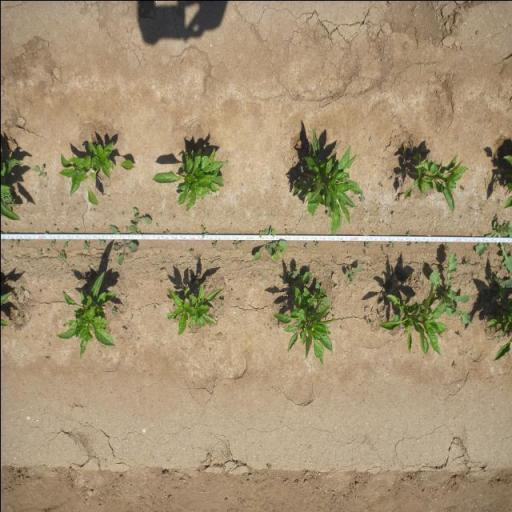plant: (289, 124, 363, 235), (55, 268, 116, 360), (57, 137, 134, 206), (381, 279, 449, 356), (268, 289, 336, 366), (152, 144, 224, 212), (398, 145, 467, 213), (165, 280, 223, 335), (486, 301, 512, 365)
weed: (426, 248, 473, 325), (473, 217, 512, 276), (106, 222, 139, 269), (252, 228, 288, 264), (485, 274, 512, 300), (128, 204, 154, 230), (286, 267, 312, 288), (344, 264, 361, 283), (33, 163, 46, 177), (4, 195, 16, 209), (58, 248, 66, 262), (9, 238, 25, 245), (232, 240, 242, 250), (364, 316, 373, 326), (200, 223, 208, 234), (96, 237, 106, 245), (359, 193, 365, 204), (463, 259, 471, 267), (387, 241, 395, 249), (210, 240, 218, 248), (444, 242, 450, 252), (17, 287, 25, 294), (83, 241, 89, 250), (219, 298, 225, 307), (456, 332, 463, 339), (313, 240, 319, 248), (162, 228, 170, 234), (112, 306, 116, 316), (452, 363, 458, 369), (406, 230, 412, 236), (406, 241, 412, 247), (364, 242, 370, 248), (302, 242, 308, 248), (188, 248, 194, 254), (62, 242, 68, 248), (50, 239, 54, 247), (72, 228, 78, 233), (38, 249, 41, 255), (382, 245, 384, 253), (426, 242, 429, 246)
